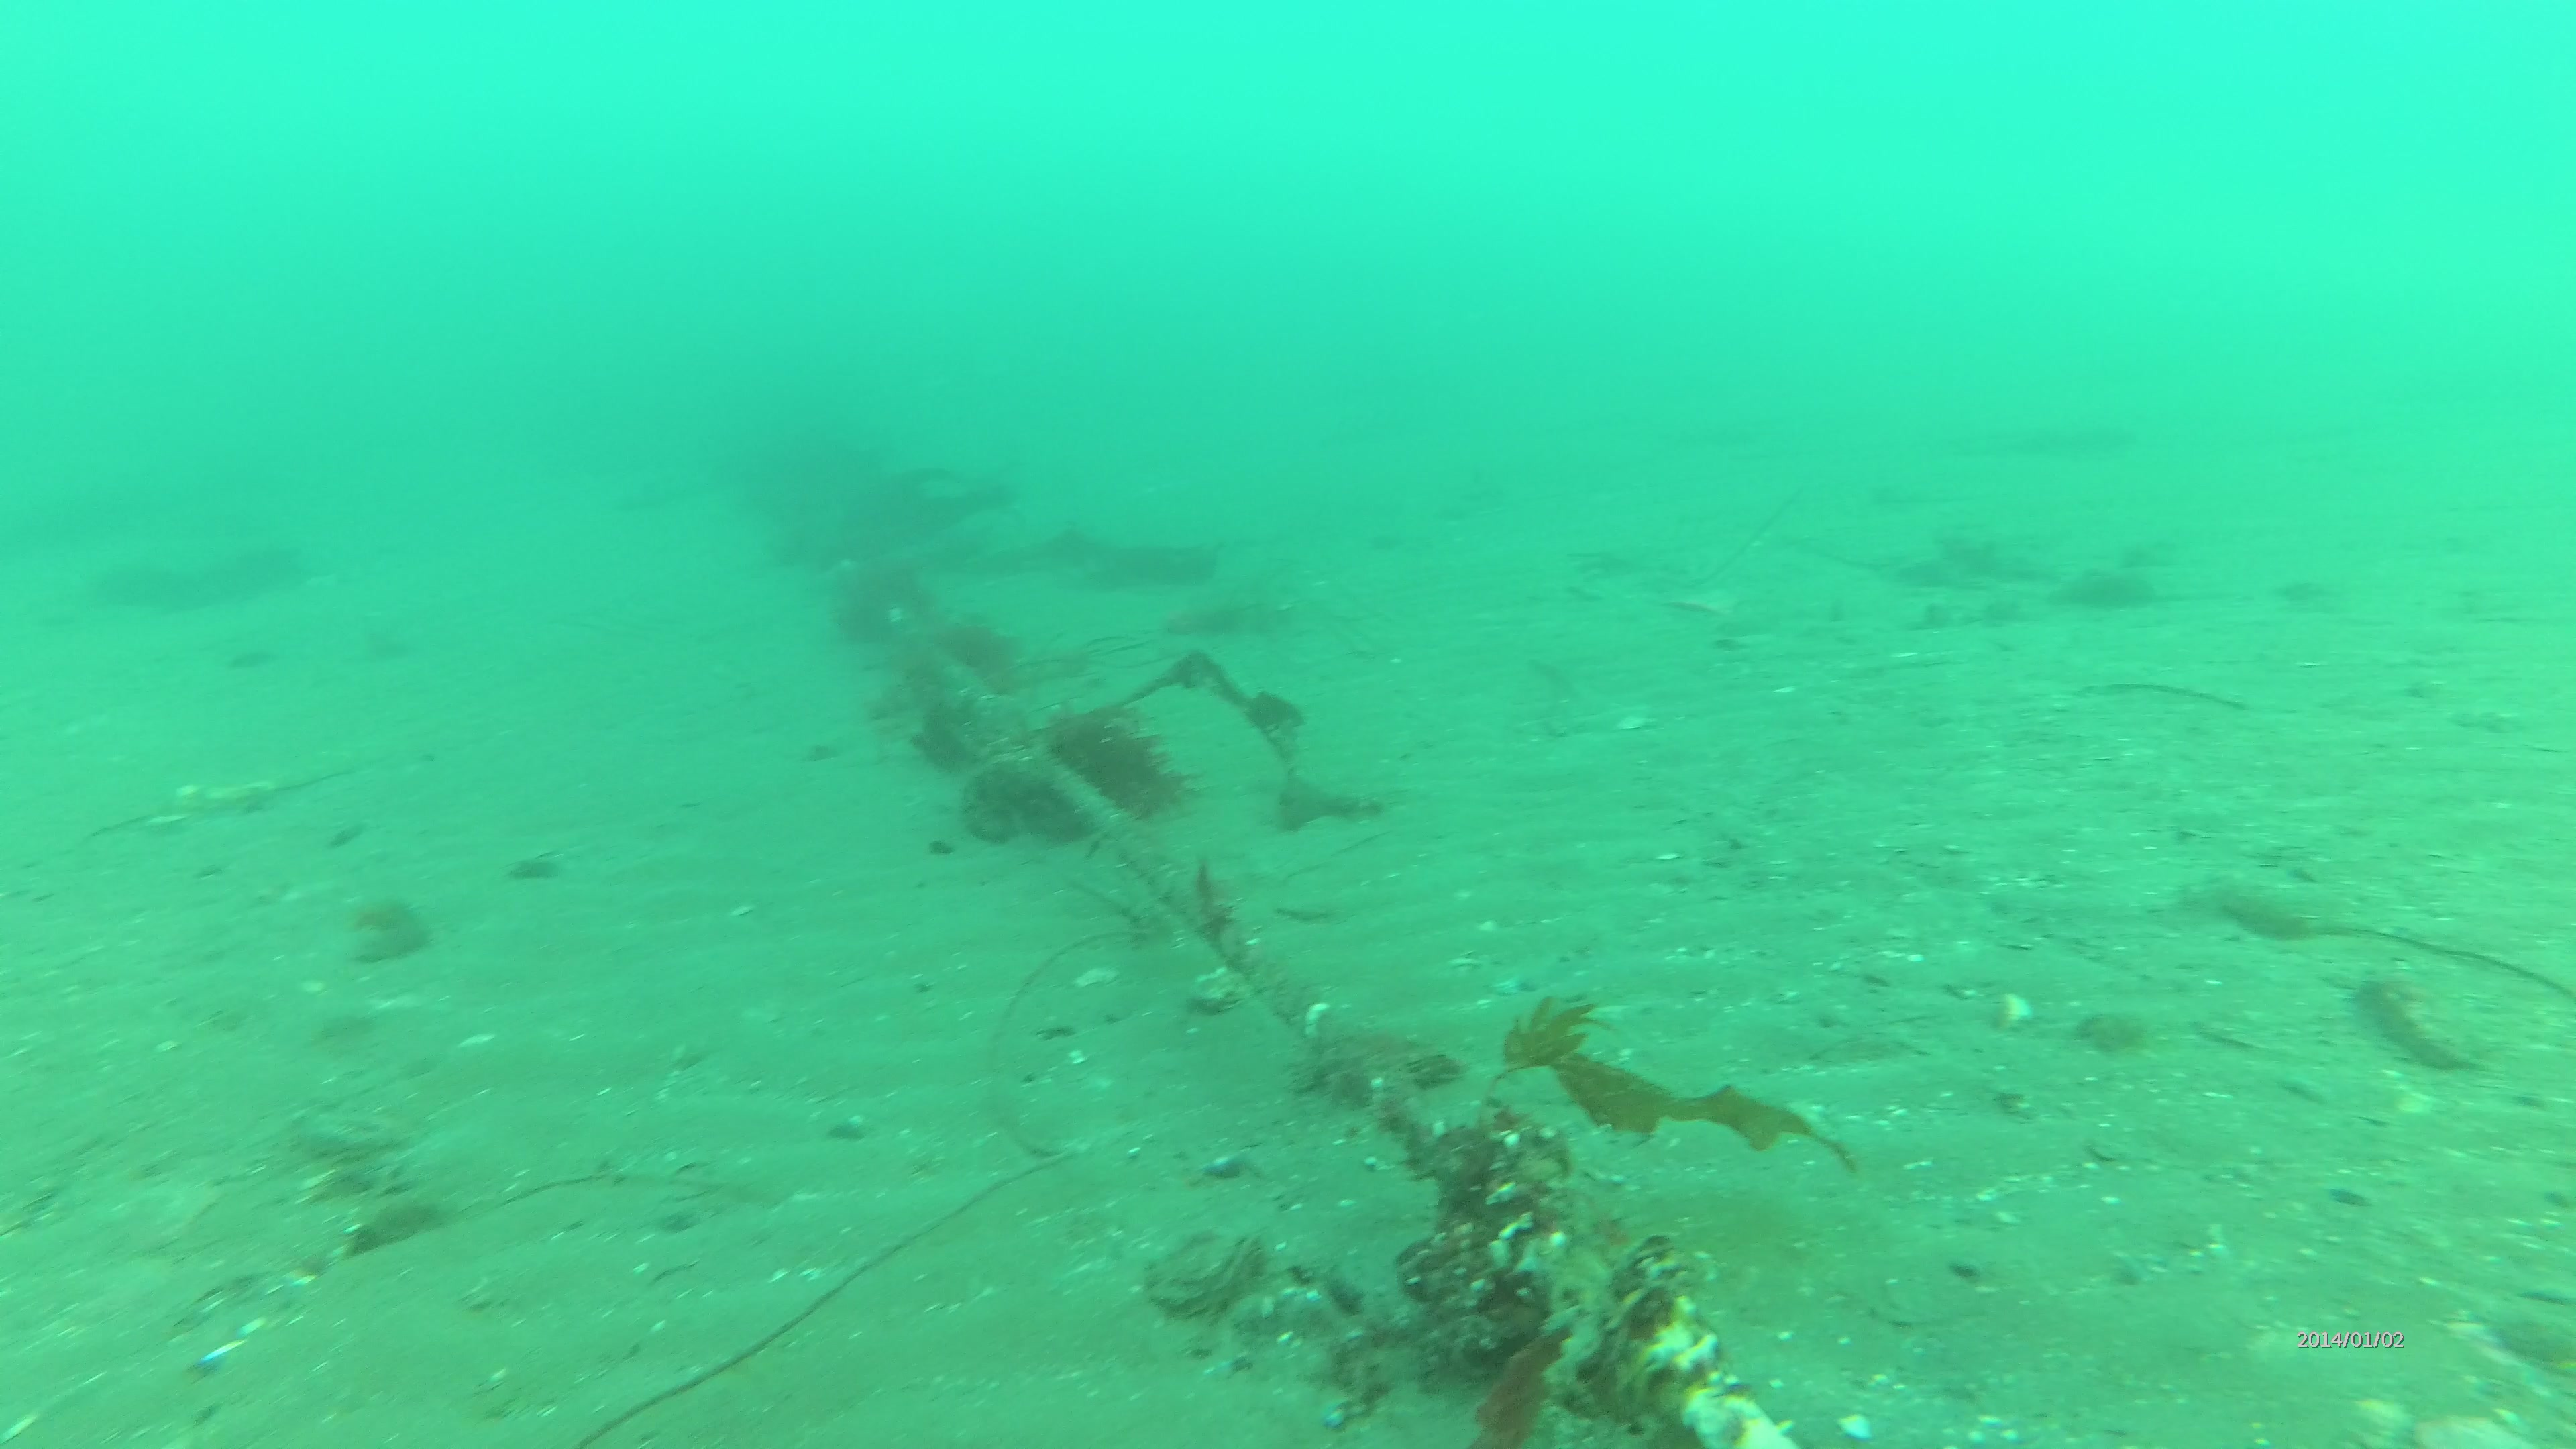scallop: (80, 1178, 223, 1256), (2196, 1017, 2275, 1058), (1185, 970, 1253, 1016), (1610, 713, 1663, 732)
